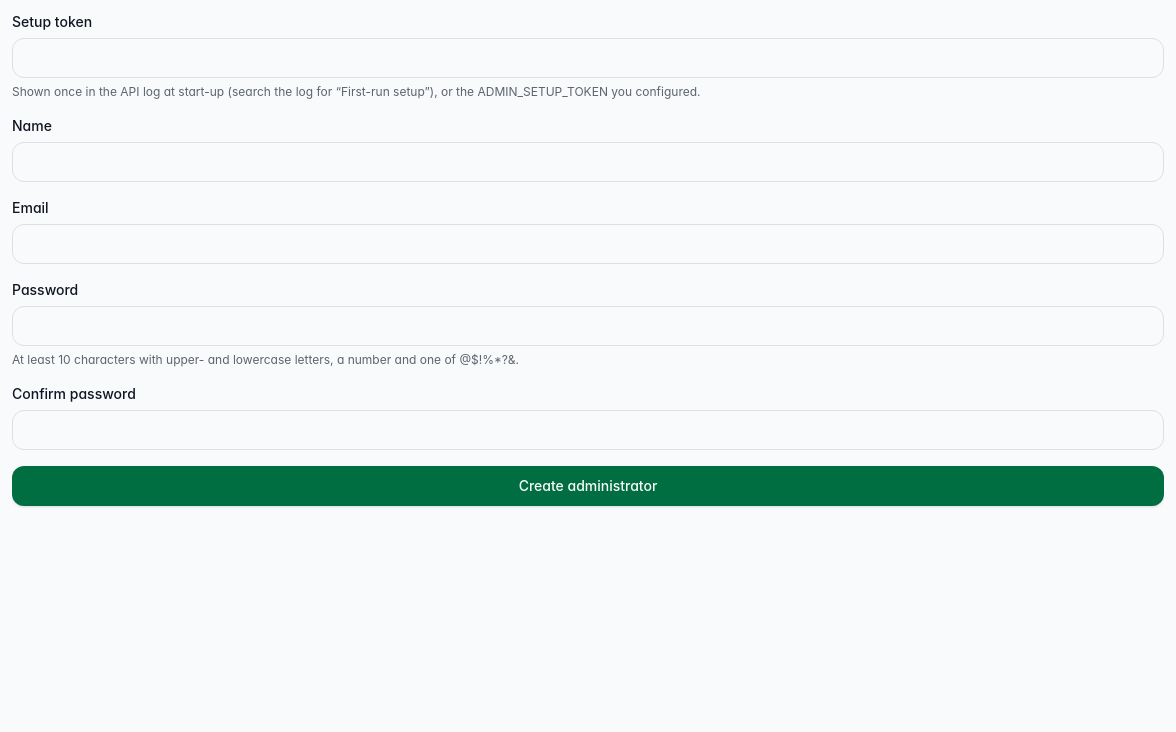
Test case: first-run setup › warns when the e-mail already had an account (its existing password applies)
Type "the-setup-token-123" into the field labelled "Setup token" at (588, 58), box [12, 38, 1164, 78]
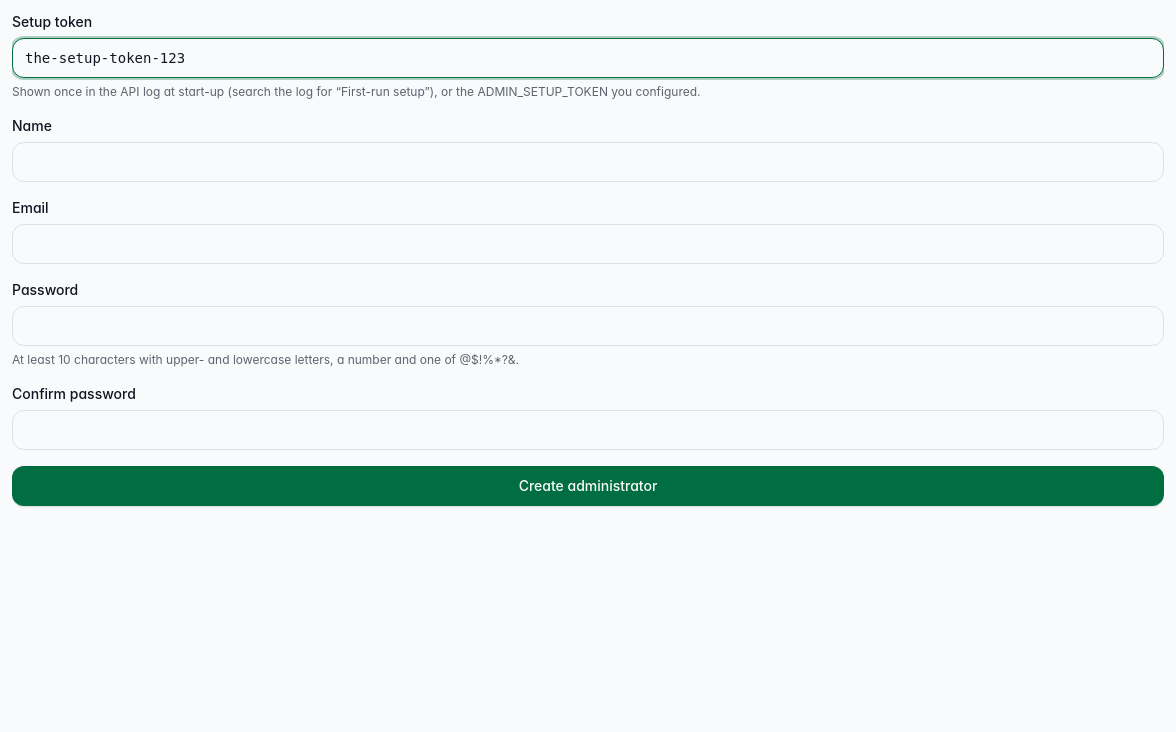
Type "Site Owner" into the field labelled "Name" at (588, 162), box [12, 142, 1164, 182]
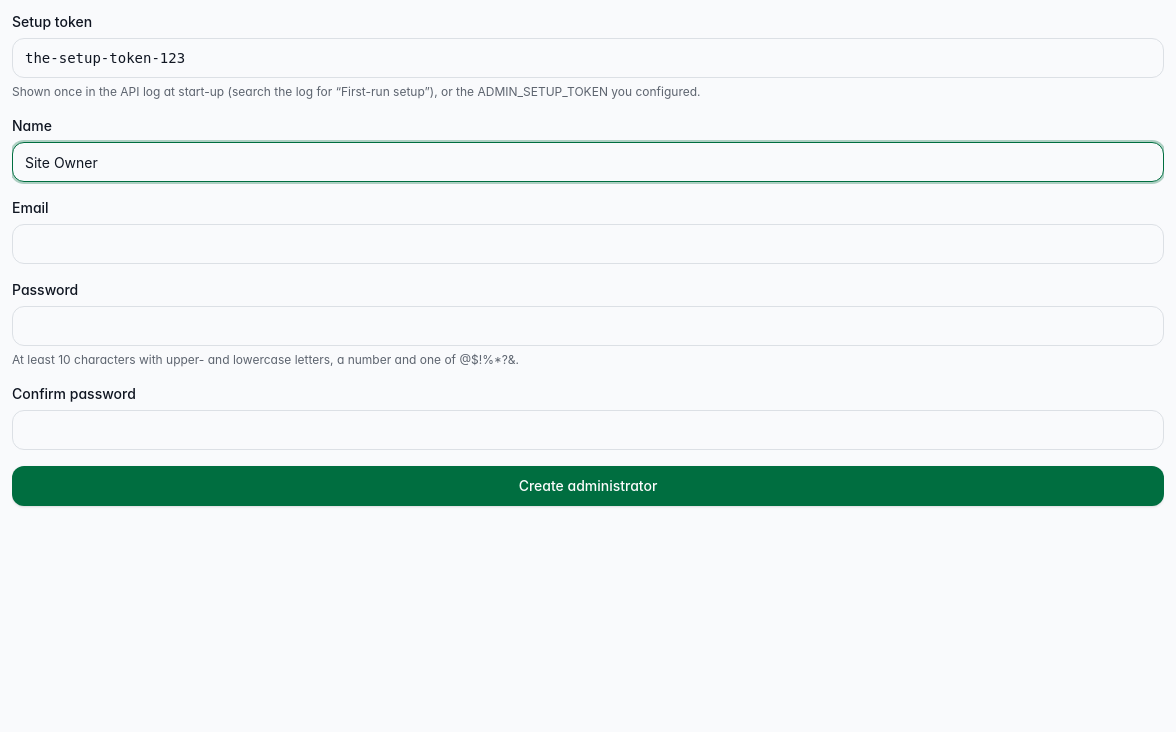
Type "owner@example.com" into the field labelled "Email" at (588, 244), box [12, 224, 1164, 264]
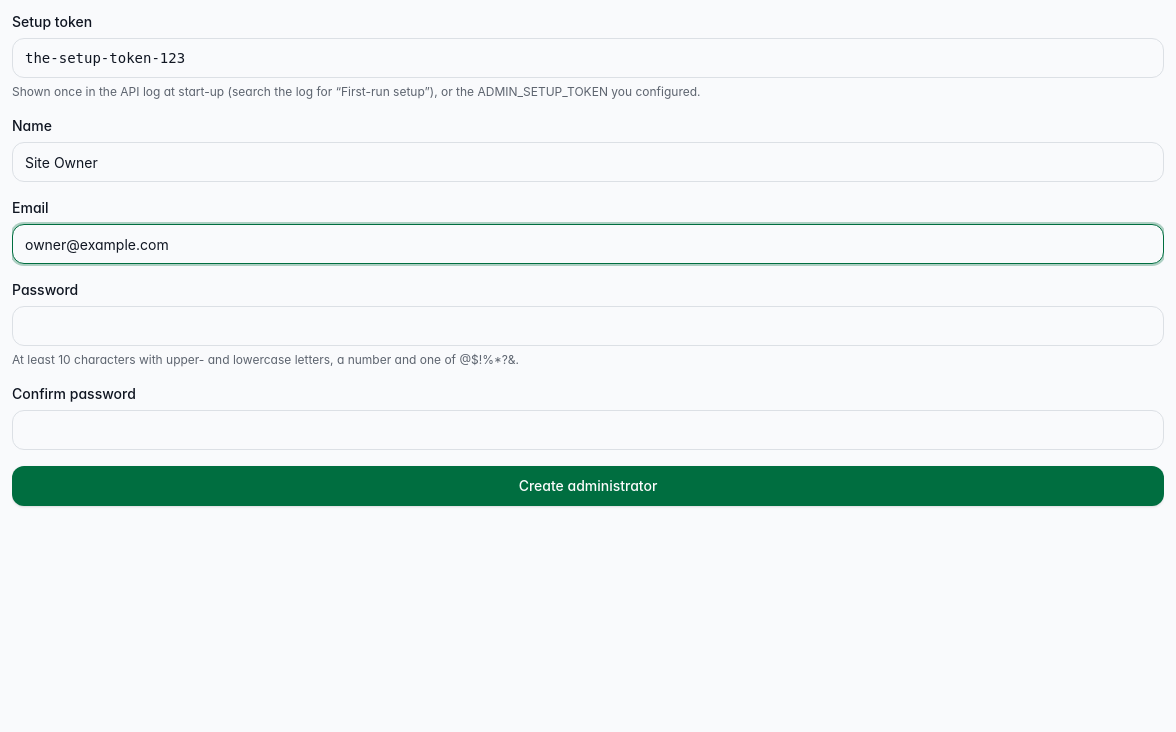
Type "Correct-horse-42!" into the password field labelled "Password" at (588, 326), box [12, 306, 1164, 346]
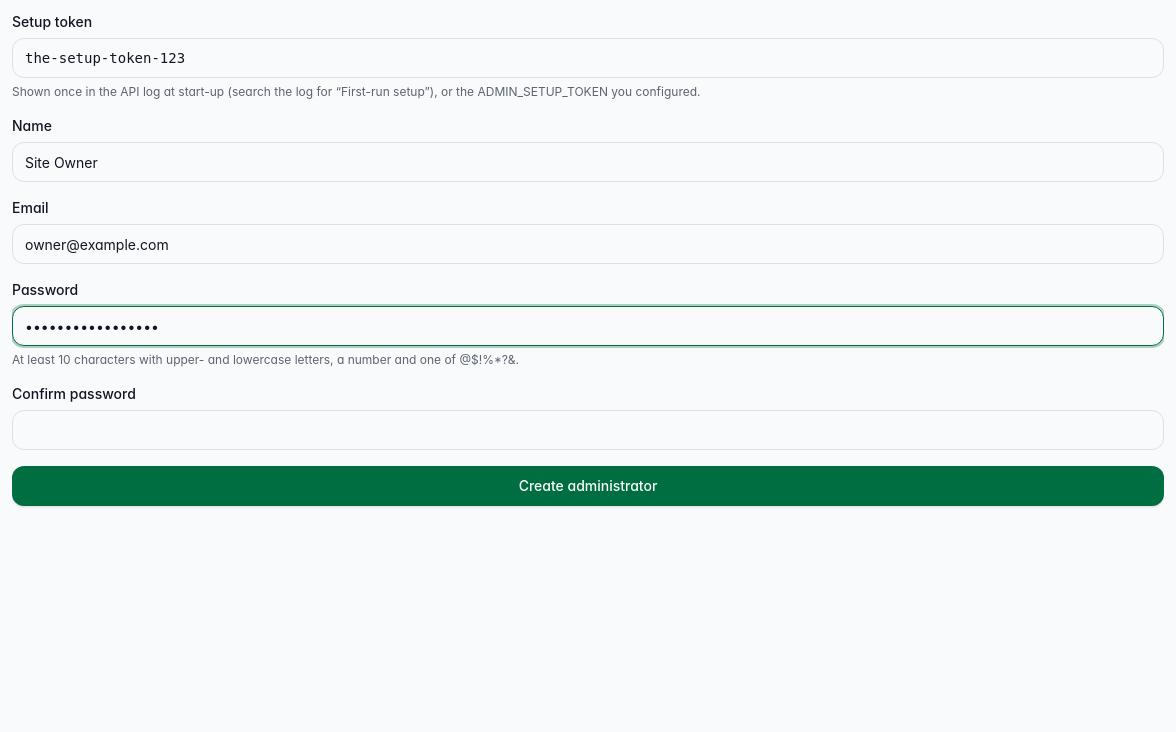
Type "Correct-horse-42!" into the password field labelled "Confirm password" at (588, 430), box [12, 410, 1164, 450]
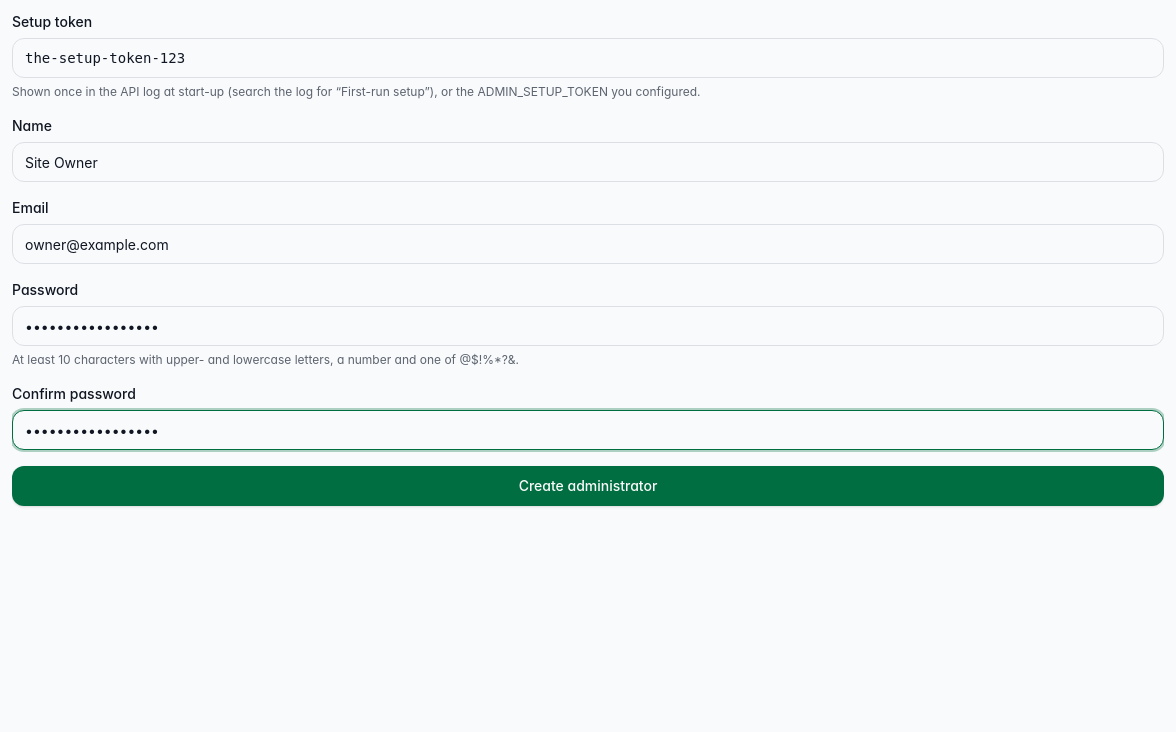
Click the button "Create administrator" at (588, 486), box [12, 466, 1164, 506]
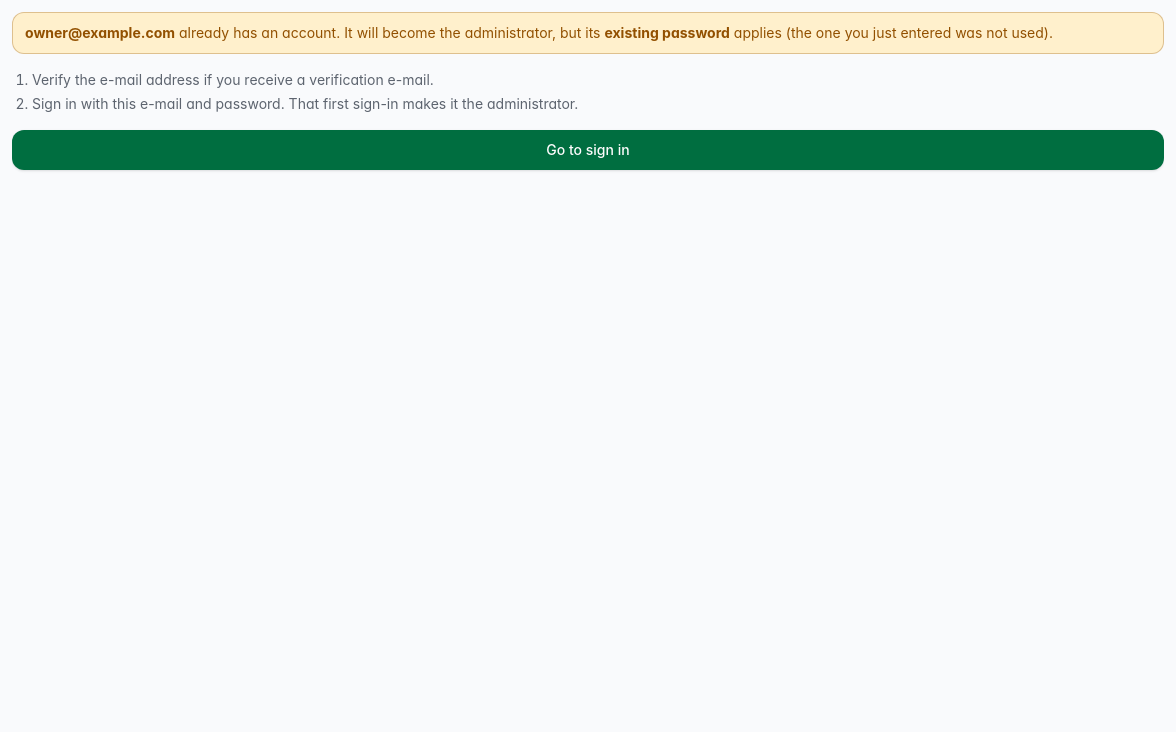
Expected: the text "already has an account" shows "existing password", [604, 24, 730, 41]
